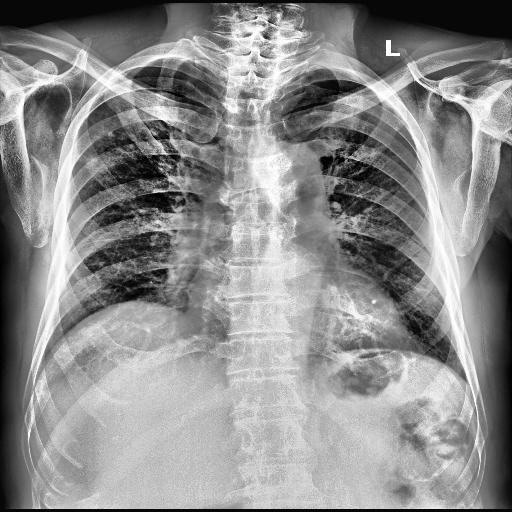0- Aortic enlargement: (203, 146, 325, 230), (264, 140, 328, 198), (256, 144, 326, 197)
13- Pulmonary fibrosis: (82, 122, 188, 186), (84, 99, 160, 173), (83, 108, 161, 174)
6- Infiltration: (84, 99, 160, 173)
